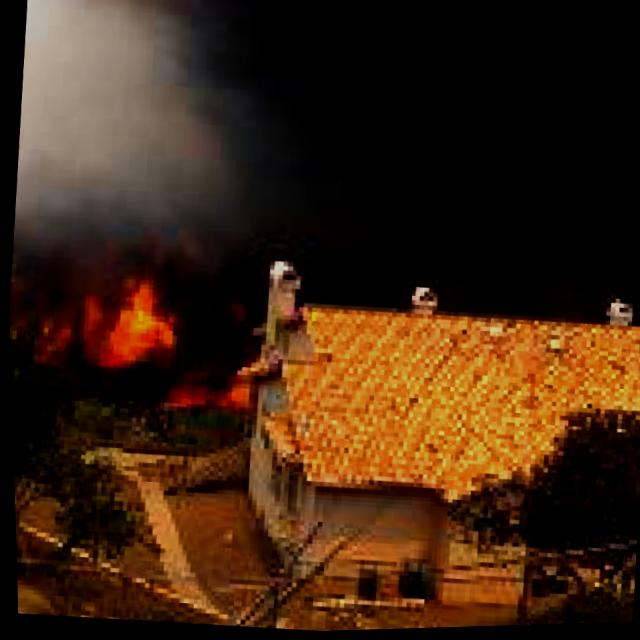smoke: (6, 0, 640, 288)
